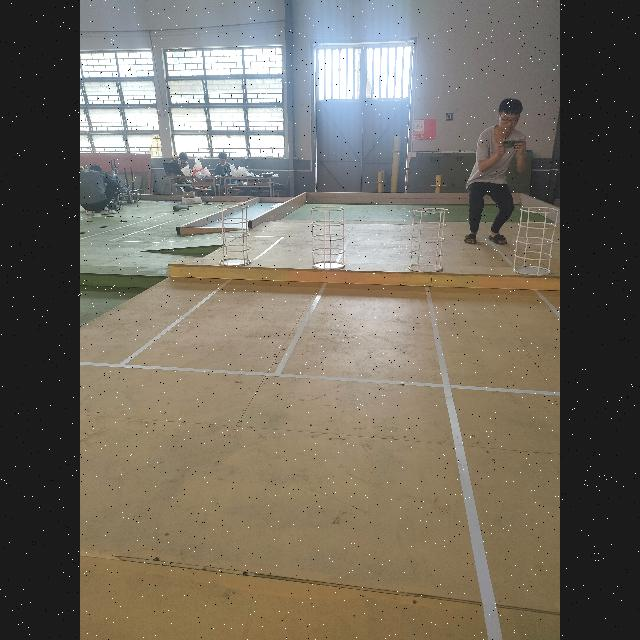S: (511, 206, 560, 277), (408, 206, 449, 274), (310, 205, 346, 272), (217, 204, 252, 268)
